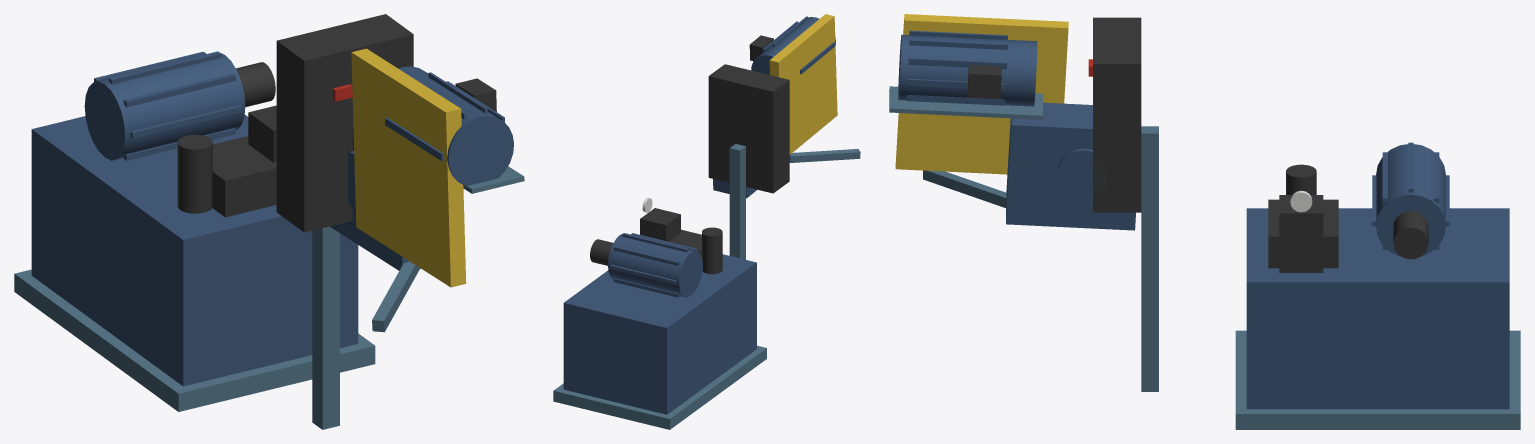
Rendered from log_deck_drive.glb.
The picture shows the model from 3 angles, left to right: view 1: azimuth 30°, elevation 25°; view 2: azimuth 150°, elevation 25°; view 3: azimuth 270°, elevation 25°; orthographic projection. The views are drawn at different scales.
Visible parts, largest first — view 1: LD_HPU, LD_DriveMesh; view 2: LD_HPU, LD_DriveMesh; view 3: LD_HPU, LD_DriveMesh.
Part boxes in pixels (box(x1,y1,x2,y2)): LD_HPU: box(14, 14, 413, 429); LD_DriveMesh: box(330, 48, 524, 332); LD_HPU: box(553, 64, 789, 429); LD_DriveMesh: box(713, 14, 860, 198); LD_HPU: box(1088, 17, 1520, 429); LD_DriveMesh: box(889, 14, 1135, 230).
Bounding box in the file's own units: 0.9 × 1.84 × 2.88.
